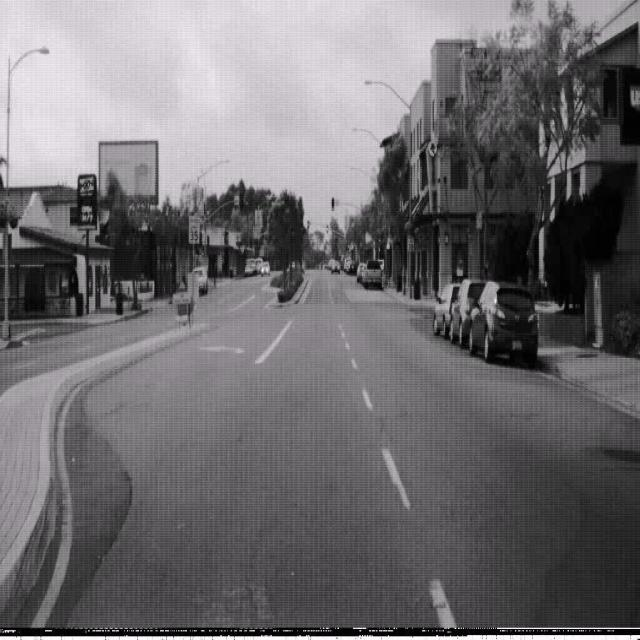speedLimit35: (188, 215, 200, 244)
